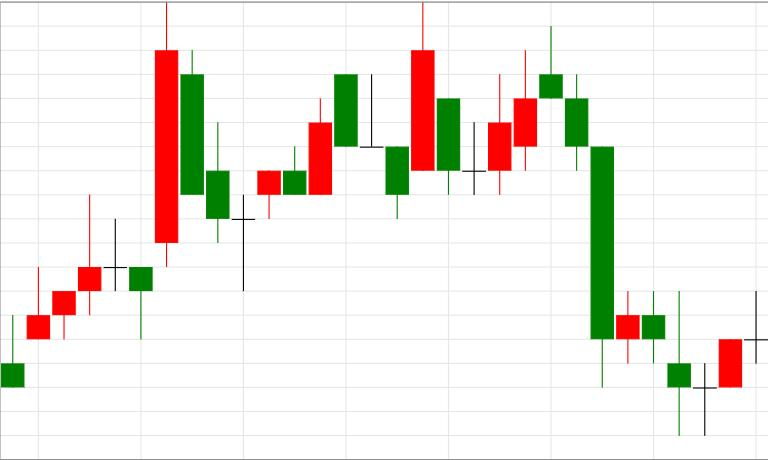morning_star_rise: (539, 26, 742, 437), (180, 48, 281, 291)
shooting_star_fall: (1, 194, 102, 388)
three_black_crows_fall: (463, 26, 614, 388)
